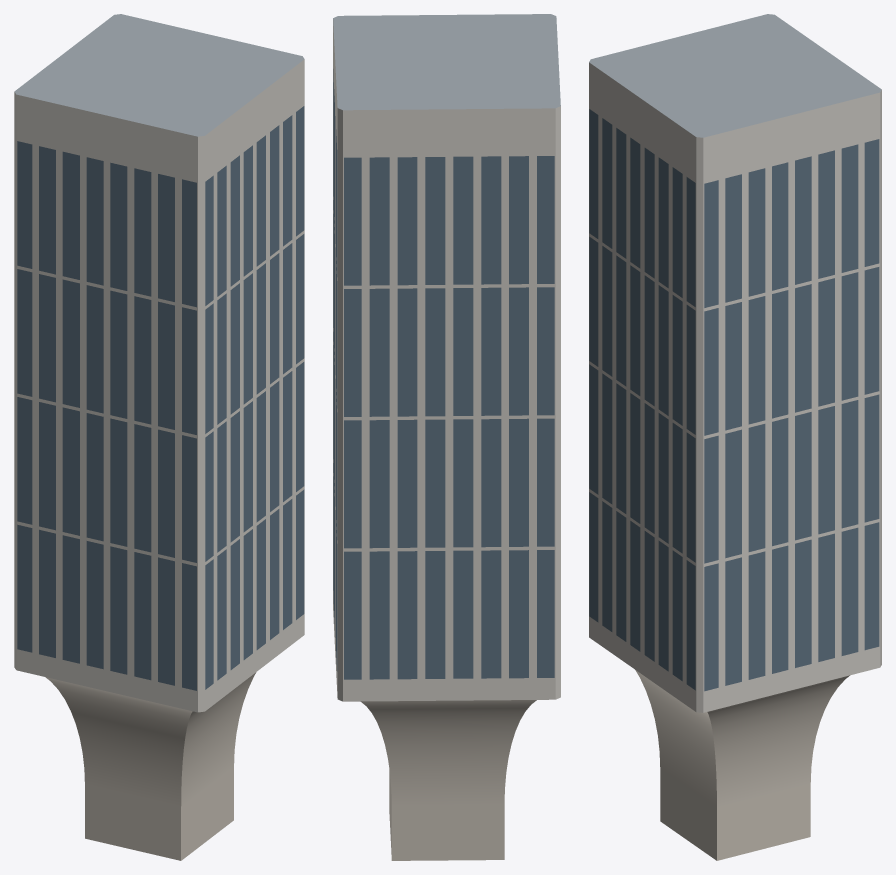
3 views of the same model, side by side, from view 1: azimuth 30°, elevation 25°; view 2: azimuth 150°, elevation 25°; view 3: azimuth 270°, elevation 25° (orthographic). The views are drawn at different scales.
Visible parts, largest first — view 1: rainier-tower; view 2: rainier-tower; view 3: rainier-tower.
Boxes of the visible parts, box(x1,y1,x2,y2) form: rainier-tower: box(14, 14, 304, 860); rainier-tower: box(333, 14, 560, 860); rainier-tower: box(589, 14, 881, 860).
Size of the model in its own units: 56.65 by 161 by 56.65.
